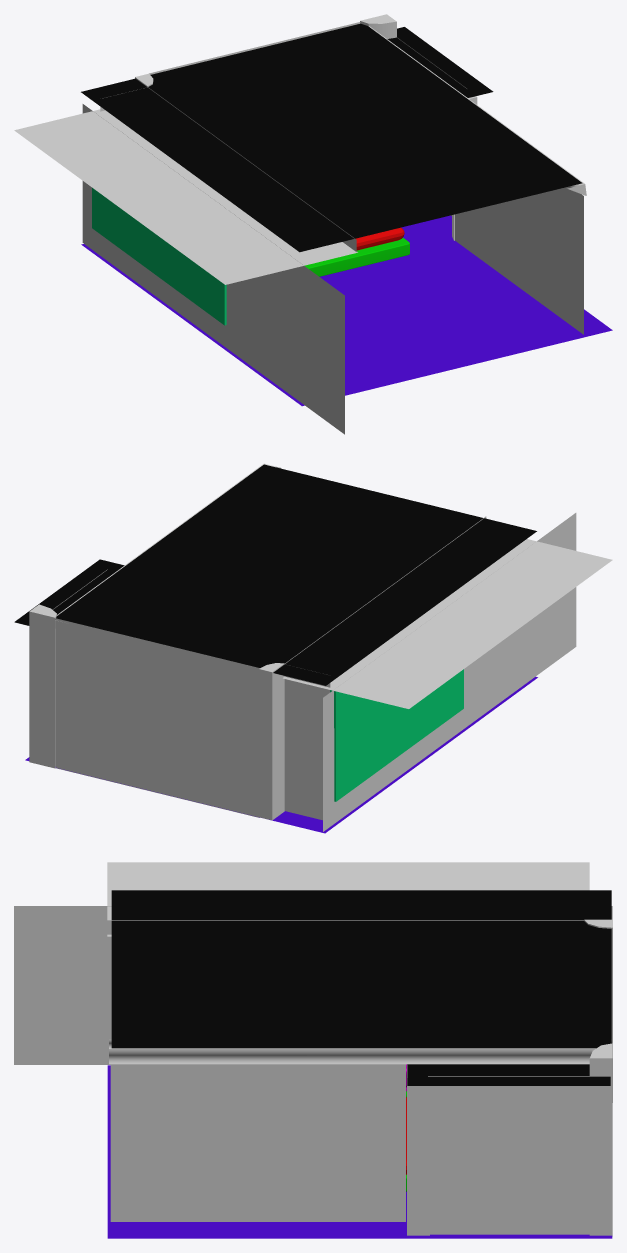
The model's file is BedroomUvModeled2.fbx.
3 views of the same model, one above another, from view 1: azimuth 30°, elevation 25°; view 2: azimuth 150°, elevation 25°; view 3: azimuth 270°, elevation 25° (orthographic). The views are drawn at different scales.
Visible parts, largest first — view 1: Scene2; view 2: Scene2; view 3: Scene2.
Boxes of the visible parts, left/top/right/bottom form: Scene2: left=14, top=14, right=612, bottom=434; Scene2: left=14, top=463, right=612, bottom=833; Scene2: left=14, top=862, right=612, bottom=1238.
Bounding box in the file's own units: 1254 × 482 × 1425.
